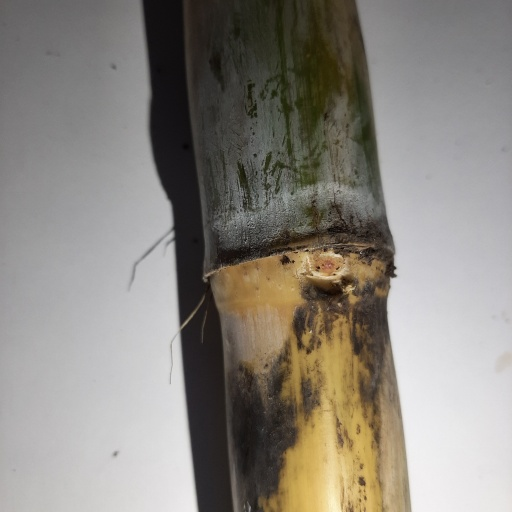Damage_Bud: (308, 249, 349, 289)
